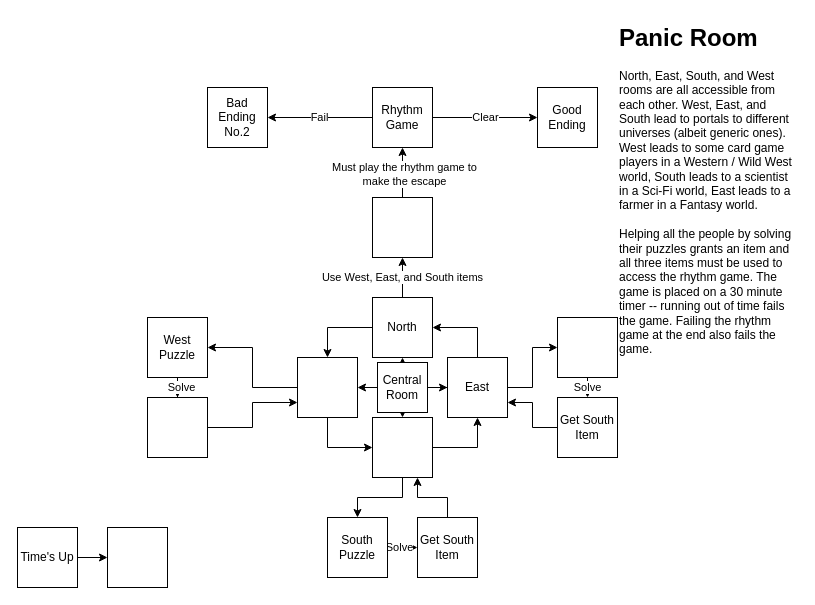
The diagram is 815 pixels wide and 605 high, and some of its shapes have lost their labels. Each missing label, with the centre of its shape:
"Bad Ending No.1" goes at point 137,557.
"East Puzzle" goes at point 587,347.
"Exit" goes at point 402,227.
"Get West Item" goes at point 177,427.
"South" goes at point 402,447.
"West" goes at point 327,387.
